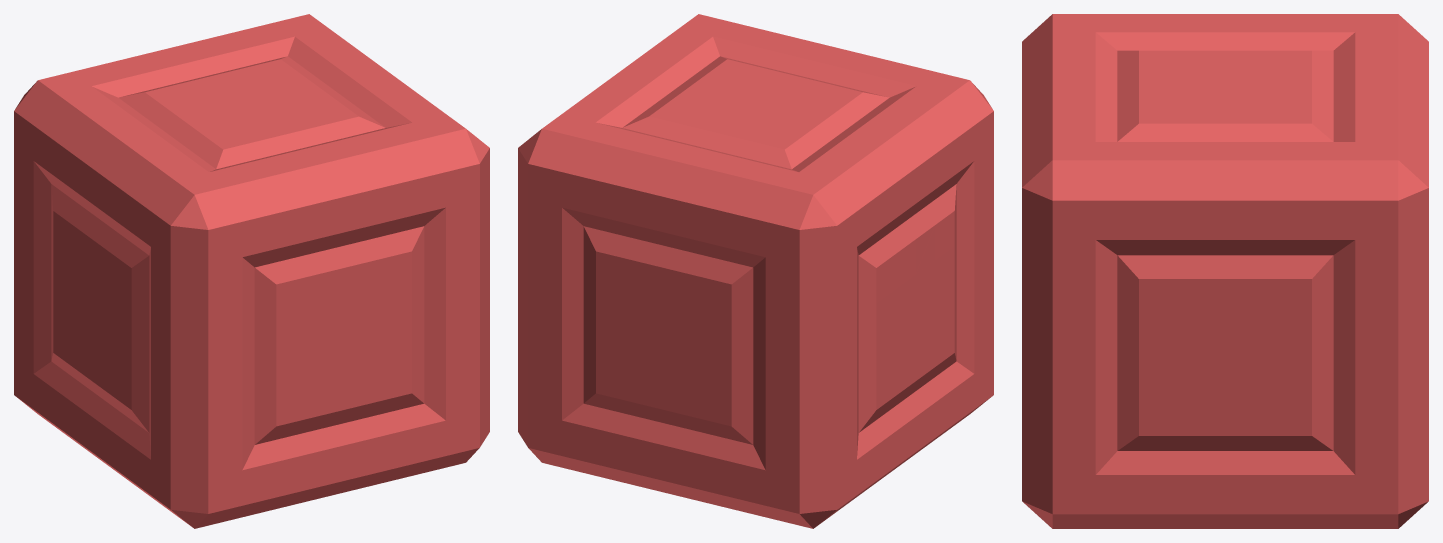
File: CubeBevel.fbx
3 renders of one model, left to right at view 1: azimuth 30°, elevation 25°; view 2: azimuth 150°, elevation 25°; view 3: azimuth 270°, elevation 25°, orthographic. The views are drawn at different scales.
Parts seen in each view (by area): view 1: Cube; view 2: Cube; view 3: Cube.
Part boxes in pixels (x1,y1,x2,y2): Cube: (14, 14, 489, 528); Cube: (518, 14, 993, 528); Cube: (1022, 14, 1428, 528).
Size of the model in its own units: 200 by 200 by 200.
